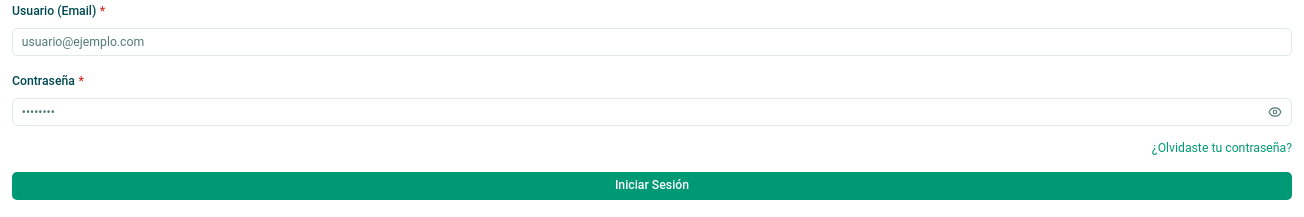
Test: LoginForm › Toggle show/hide password › debe cambiar el aria-label del botón al toggle
The width and height of the screenshot is (1304, 217).
Click the button named "mostrar contraseña". click: (1274, 112)
box: 1257,98 -> 1292,126
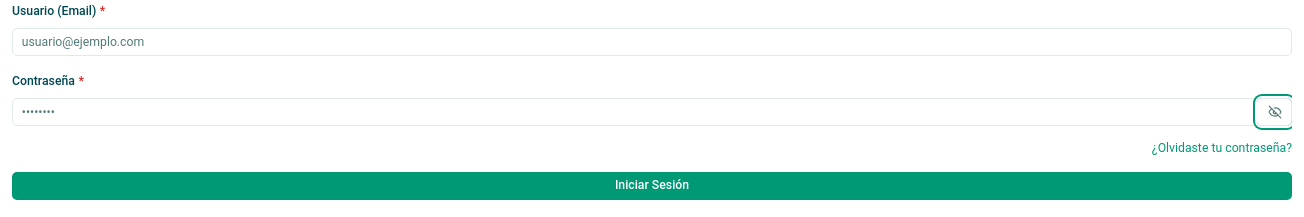
Expected: the button named "ocultar contraseña" is shown, 1257,98 -> 1292,126
